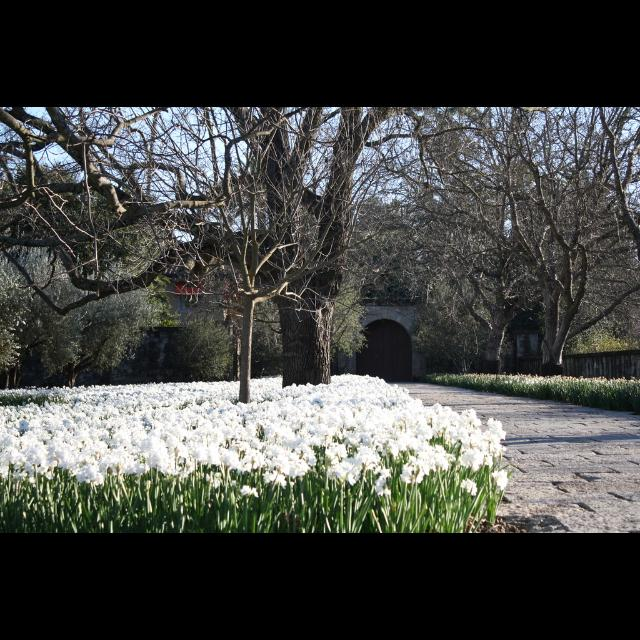Flower: (0, 375, 506, 499), (460, 478, 480, 496)
